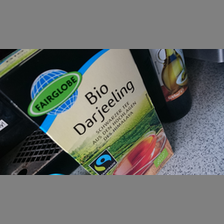tea: (2, 48, 172, 175)
